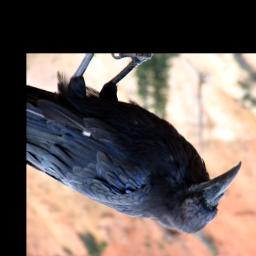Crow: (28, 54, 243, 239)
